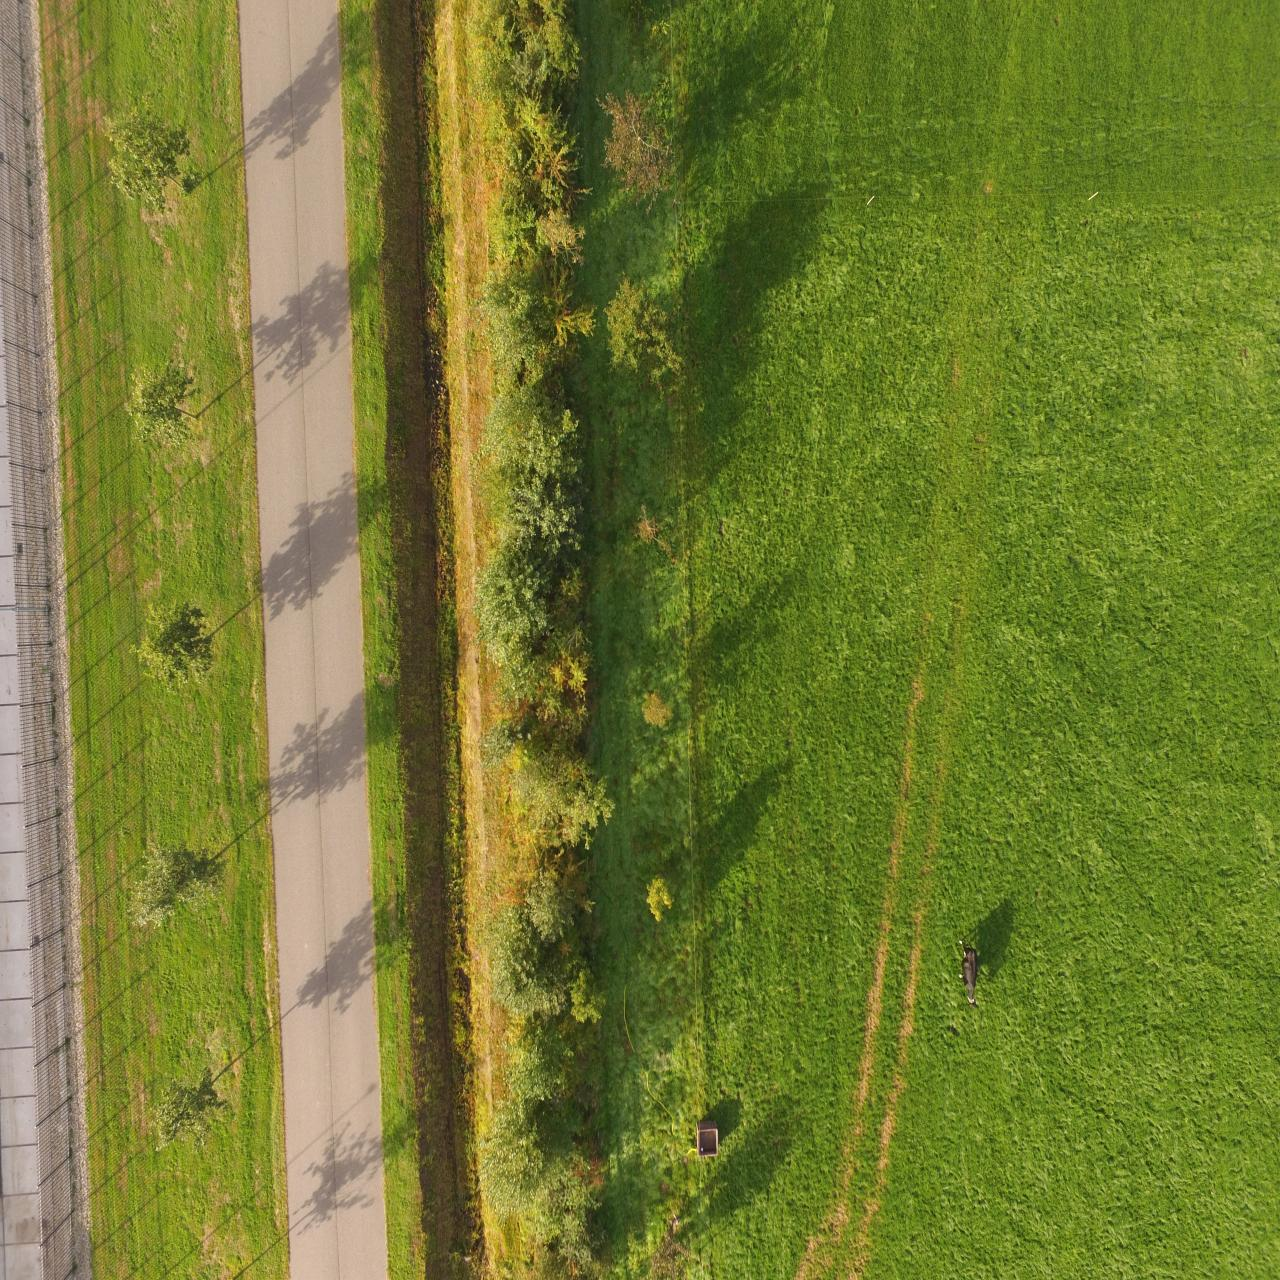cow: (955, 935, 979, 1010)
